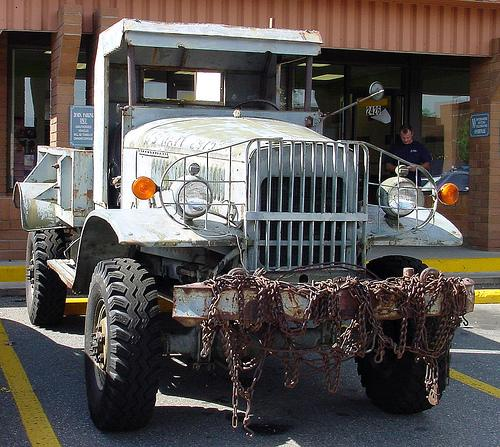truck: (13, 18, 475, 434)
